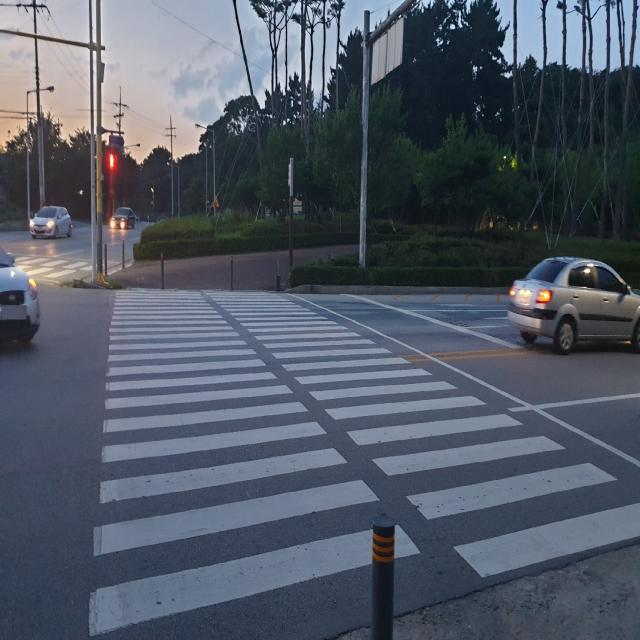빨간불: (105, 150, 119, 197)
횡단보도: (89, 289, 640, 640)
